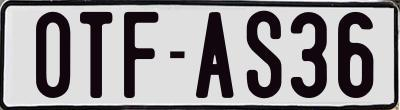0: (34, 9, 69, 98)
3: (291, 11, 327, 97)
6: (338, 9, 378, 97)
A: (195, 11, 234, 99)
F: (122, 9, 162, 99)
S: (247, 11, 287, 99)
T: (79, 9, 117, 97)
